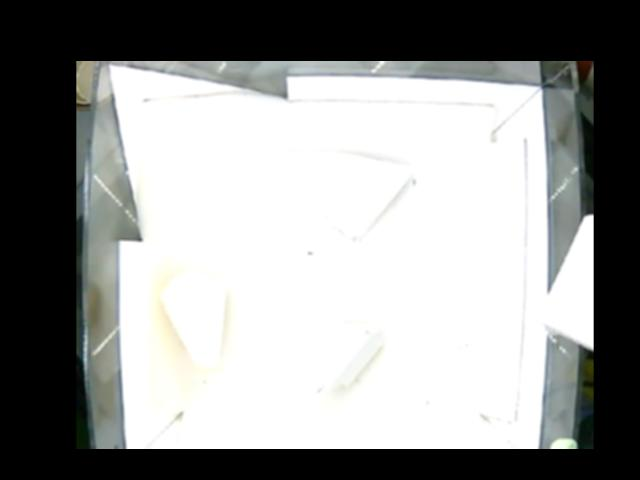China: (274, 152, 419, 240), (301, 313, 382, 400)
Mooli: (162, 267, 225, 371)
